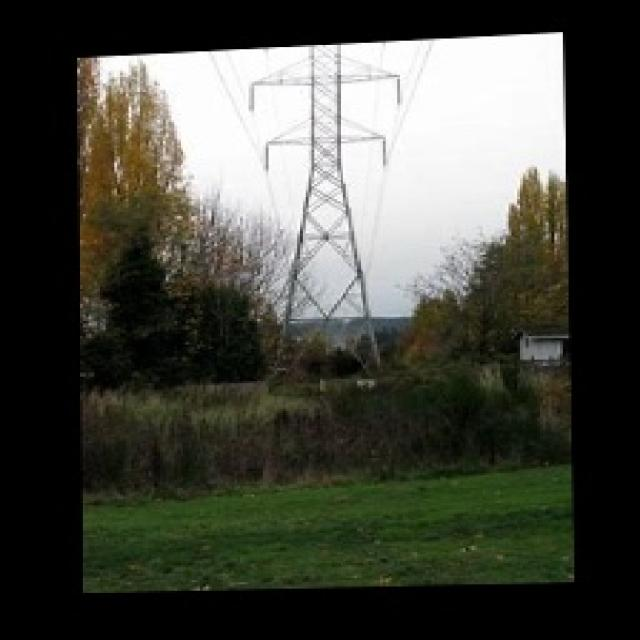utility poles: (204, 262, 319, 396), (348, 307, 476, 407)
